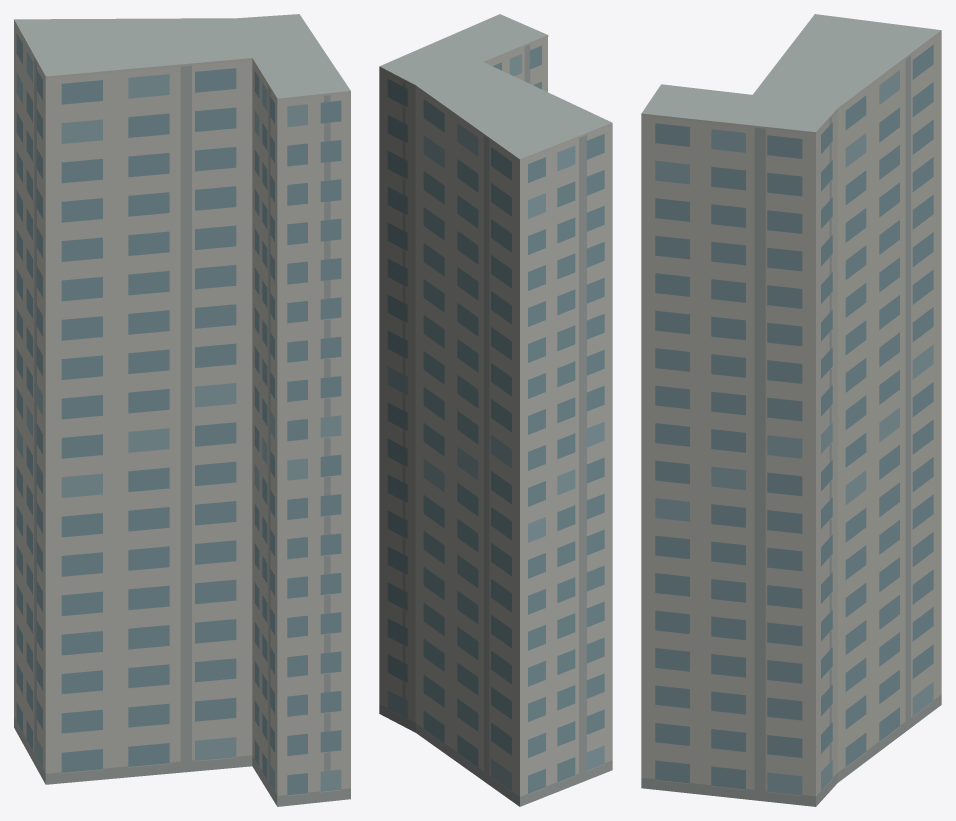
File: residential-cef11425-1601-4d97-80b8-016fa2b79d74.glb
3 renders of one model, left to right at view 1: azimuth 30°, elevation 25°; view 2: azimuth 150°, elevation 25°; view 3: azimuth 270°, elevation 25°, orthographic. The views are drawn at different scales.
Parts seen in each view (by area): view 1: residential-cef11425-1601-4d97-80b8-016fa2b79d74.tmp; view 2: residential-cef11425-1601-4d97-80b8-016fa2b79d74.tmp; view 3: residential-cef11425-1601-4d97-80b8-016fa2b79d74.tmp.
Part boxes in pixels (x1,y1,x2,y2): residential-cef11425-1601-4d97-80b8-016fa2b79d74.tmp: [14, 14, 350, 806]; residential-cef11425-1601-4d97-80b8-016fa2b79d74.tmp: [379, 14, 612, 806]; residential-cef11425-1601-4d97-80b8-016fa2b79d74.tmp: [641, 14, 941, 806].
Bounding box in the file's own units: 30.08 × 80 × 32.26.
